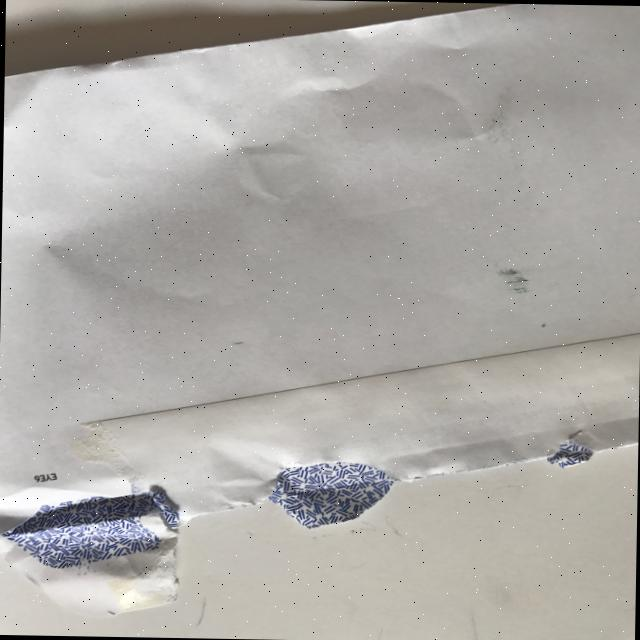paper: (0, 0, 640, 640), (267, 458, 395, 530)
